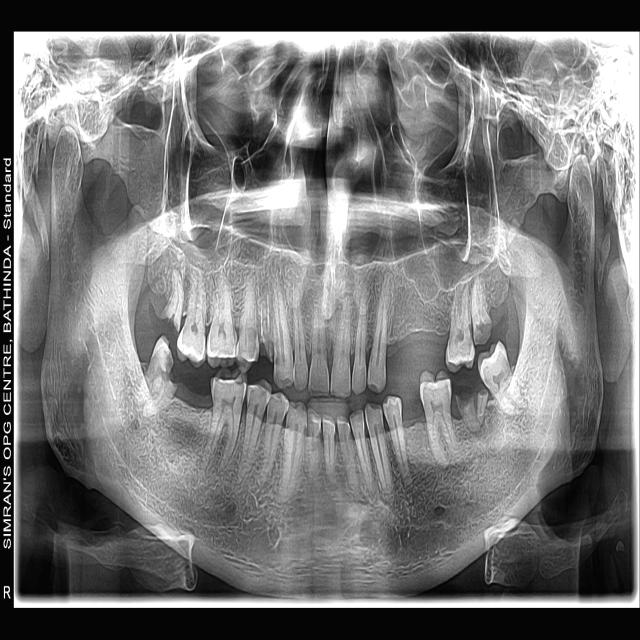Caries: (164, 344, 179, 398)
Mandibular Canal: (79, 311, 236, 525), (430, 323, 562, 526)
Missing teeth: (387, 338, 449, 386), (176, 365, 212, 408), (402, 383, 423, 425)
Root Piece: (160, 268, 184, 331), (471, 274, 492, 344), (259, 293, 273, 362), (455, 396, 480, 432), (477, 390, 489, 427)
